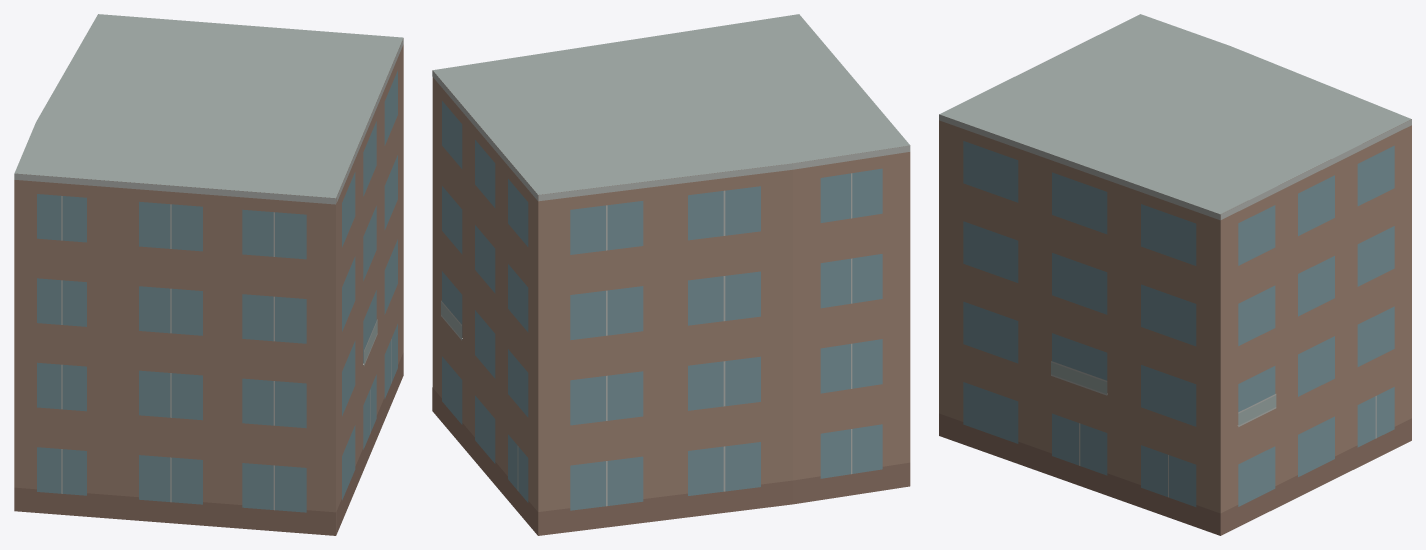
Rendered from survey-upis-32509624.glb.
3 renders of one model, left to right at view 1: azimuth 30°, elevation 25°; view 2: azimuth 150°, elevation 25°; view 3: azimuth 270°, elevation 25°, orthographic. The views are drawn at different scales.
Parts seen in each view (by area): view 1: survey-upis-32509624.tmp; view 2: survey-upis-32509624.tmp; view 3: survey-upis-32509624.tmp.
Boxes of the visible parts, x1=… form: survey-upis-32509624.tmp: x1=14, y1=14, x2=403, y2=535; survey-upis-32509624.tmp: x1=432, y1=14, x2=910, y2=535; survey-upis-32509624.tmp: x1=939, y1=14, x2=1411, y2=535.
Size of the model in its own units: 17.45 by 13.05 by 17.4.
